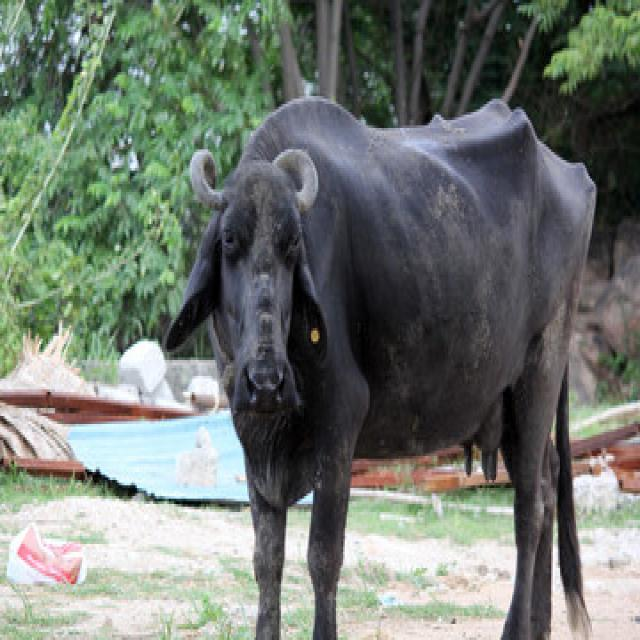Buffalo: (160, 88, 599, 637)
